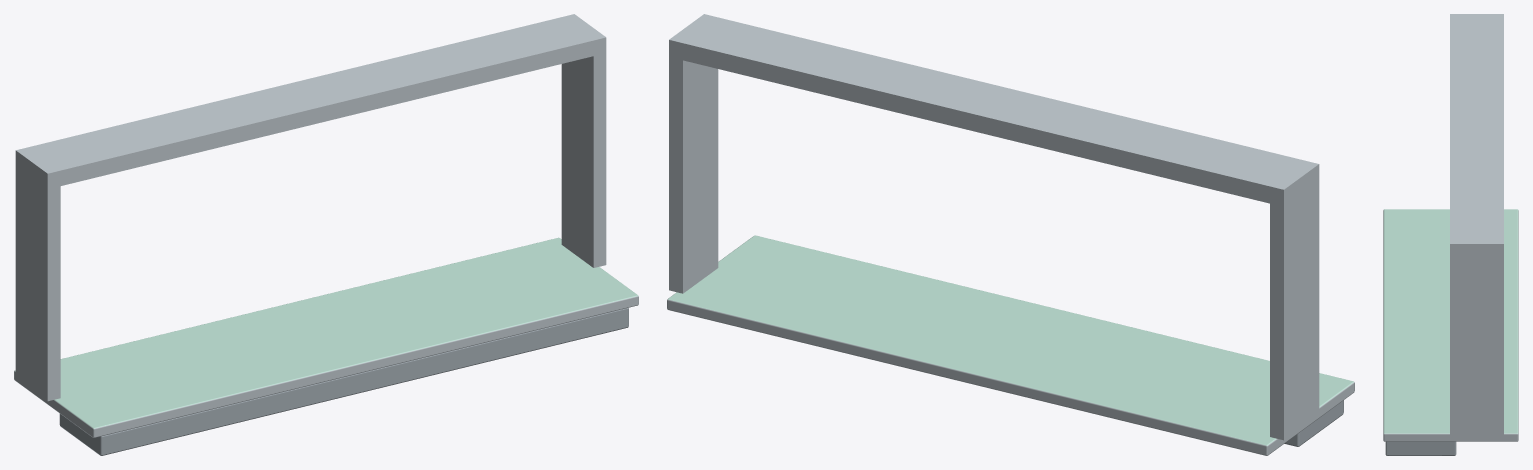
File: SM_StationWindow_Order.glb
3 views of the same model, side by side, from view 1: azimuth 30°, elevation 25°; view 2: azimuth 150°, elevation 25°; view 3: azimuth 270°, elevation 25° (orthographic). The views are drawn at different scales.
Visible parts, largest first — view 1: SM_StationWindow_Order, Kasa_Sove; view 2: SM_StationWindow_Order, Kasa_Sove; view 3: Kasa_Sove, SM_StationWindow_Order.
Boxes of the visible parts, bbox=[...] form: SM_StationWindow_Order: bbox=[14, 237, 638, 455]; Kasa_Sove: bbox=[15, 14, 606, 401]; SM_StationWindow_Order: bbox=[667, 235, 1354, 455]; Kasa_Sove: bbox=[669, 14, 1319, 440]; Kasa_Sove: bbox=[1450, 14, 1503, 436]; SM_StationWindow_Order: bbox=[1383, 209, 1518, 455].
Size of the model in its own units: 2.62 by 1.16 by 0.65.
3 materials, 3 textured.
